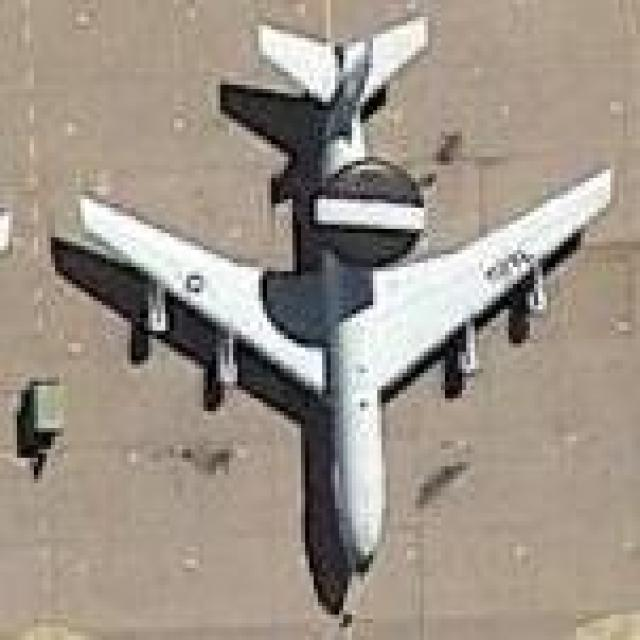E-3_TopDown: (42, 4, 614, 619)
